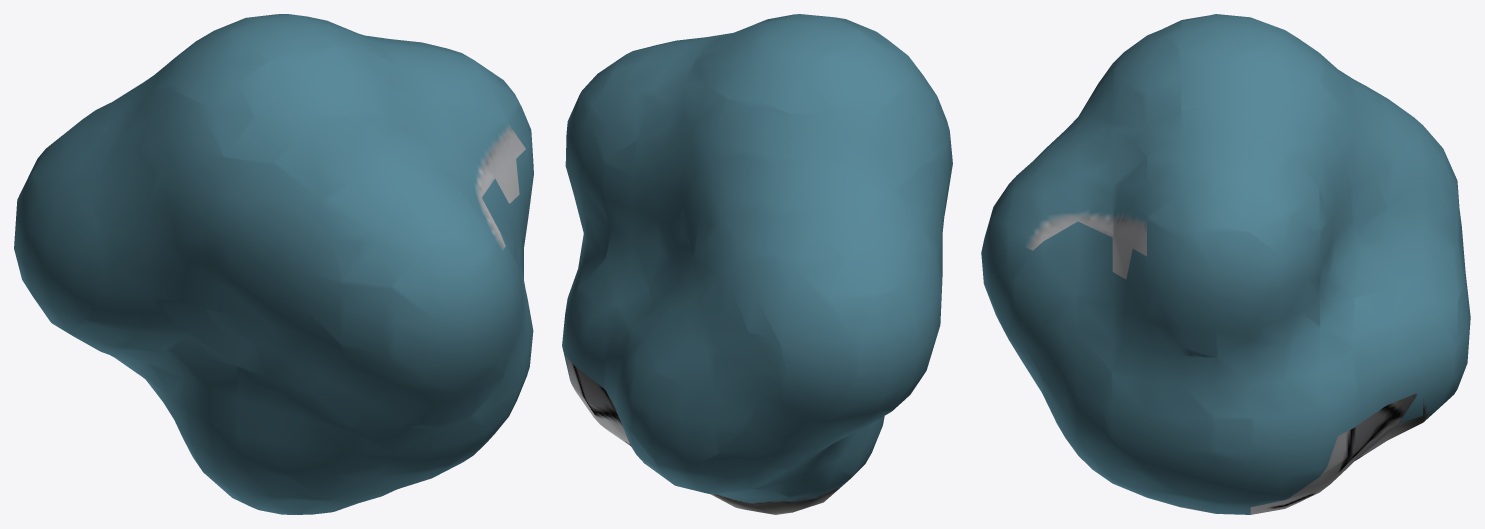
File: Algodon.fbx
3 views of the same model, side by side, from view 1: azimuth 30°, elevation 25°; view 2: azimuth 150°, elevation 25°; view 3: azimuth 270°, elevation 25° (orthographic). The views are drawn at different scales.
Parts seen in each view (by area): view 1: Mball.008; view 2: Mball.008; view 3: Mball.008.
Boxes of the visible parts, box(x1,y1,x2,y2) form: Mball.008: box(14, 14, 533, 514); Mball.008: box(562, 14, 952, 514); Mball.008: box(981, 14, 1470, 514).
Bounding box in the file's own units: 370 × 409 × 392.
